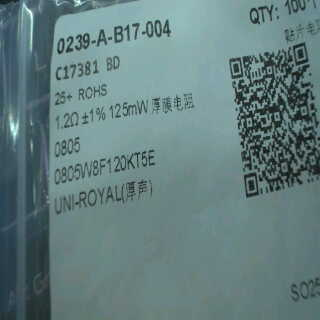1.2R: (52, 108, 82, 161)
